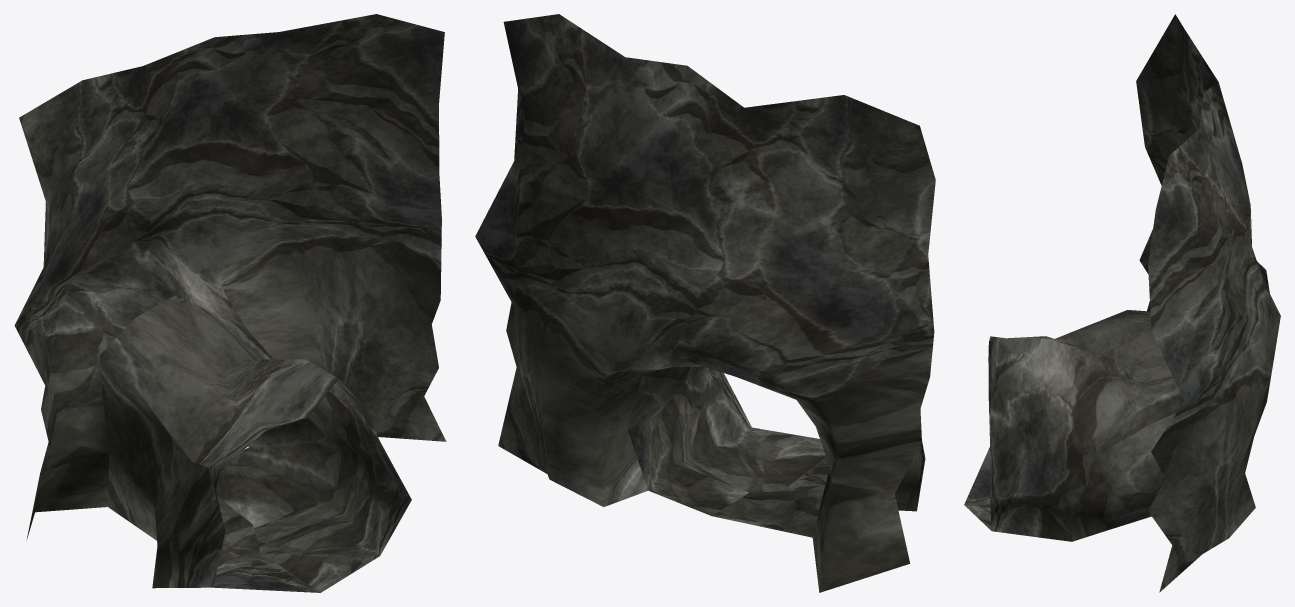
Rendered from CrawlEntranceA.fbx.
3 views of the same model, side by side, from view 1: azimuth 30°, elevation 25°; view 2: azimuth 150°, elevation 25°; view 3: azimuth 270°, elevation 25° (orthographic). The views are drawn at different scales.
Parts seen in each view (by area): view 1: CrawlEntranceA; view 2: CrawlEntranceA; view 3: CrawlEntranceA.
Part boxes in pixels (x1,y1,x2,y2): CrawlEntranceA: (14, 14, 446, 592); CrawlEntranceA: (475, 14, 935, 592); CrawlEntranceA: (964, 14, 1280, 592).
Size of the model in its own units: 4.65 by 4.78 by 3.15.
